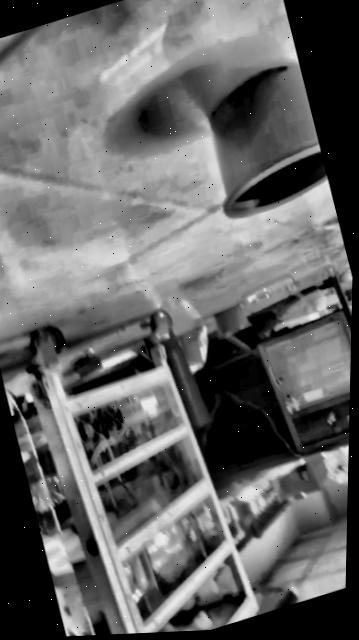pot: (190, 58, 332, 222)
